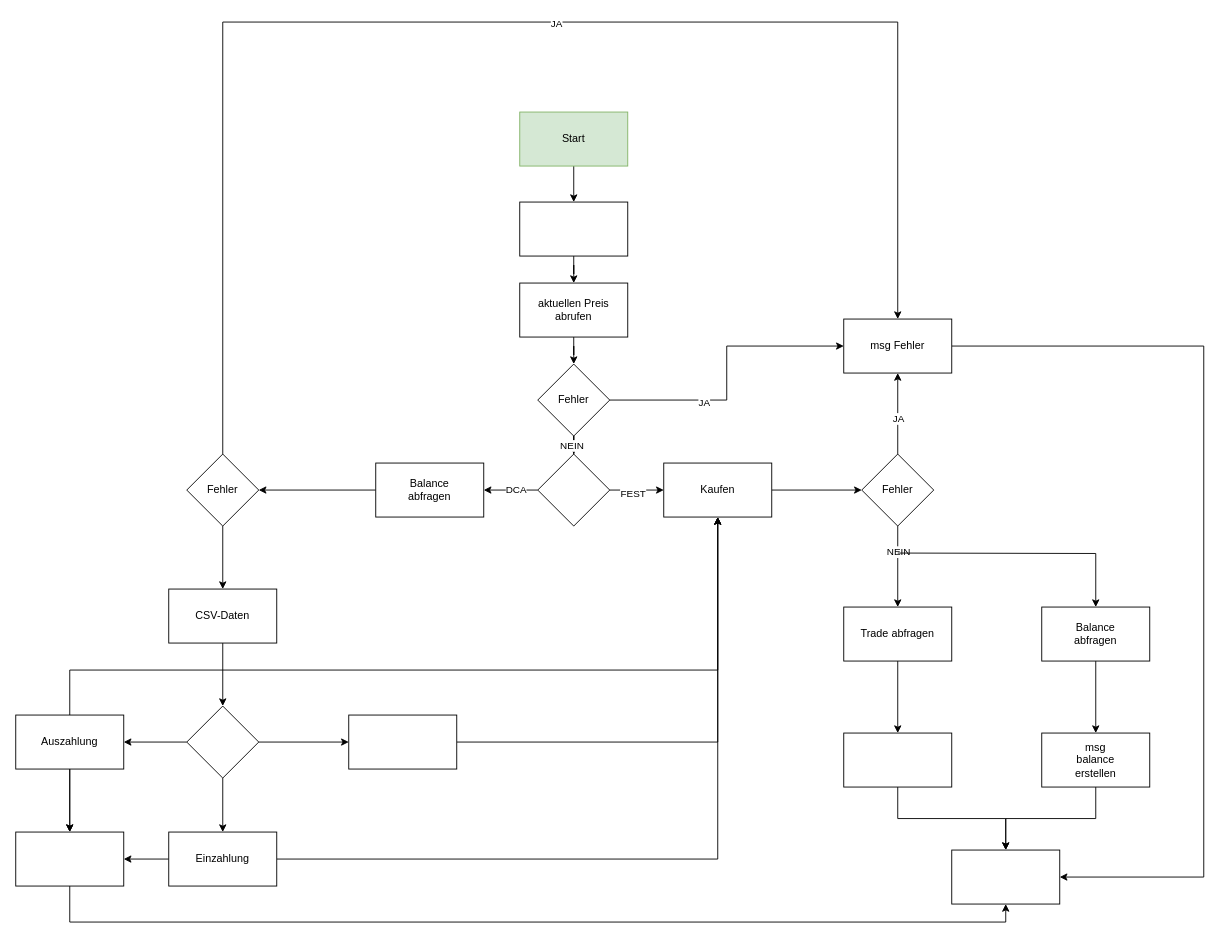
The diagram is 1227 pixels wide and 945 high, and some of its shapes have lost their labels. Each missing label, with the centre of its shape:
DCA/Fest: point 573,489
Einzahlung Auszahlung: point 222,741
keine Änderung: point 402,741
msg Ein-Auszahlung: point 69,858
msg Trade erstellen: point 897,759
Schleife: point 573,228
Telegram: point 1005,876
